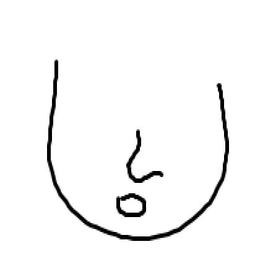nose: (120, 119, 166, 184)
open_mouth: (114, 192, 147, 221)
